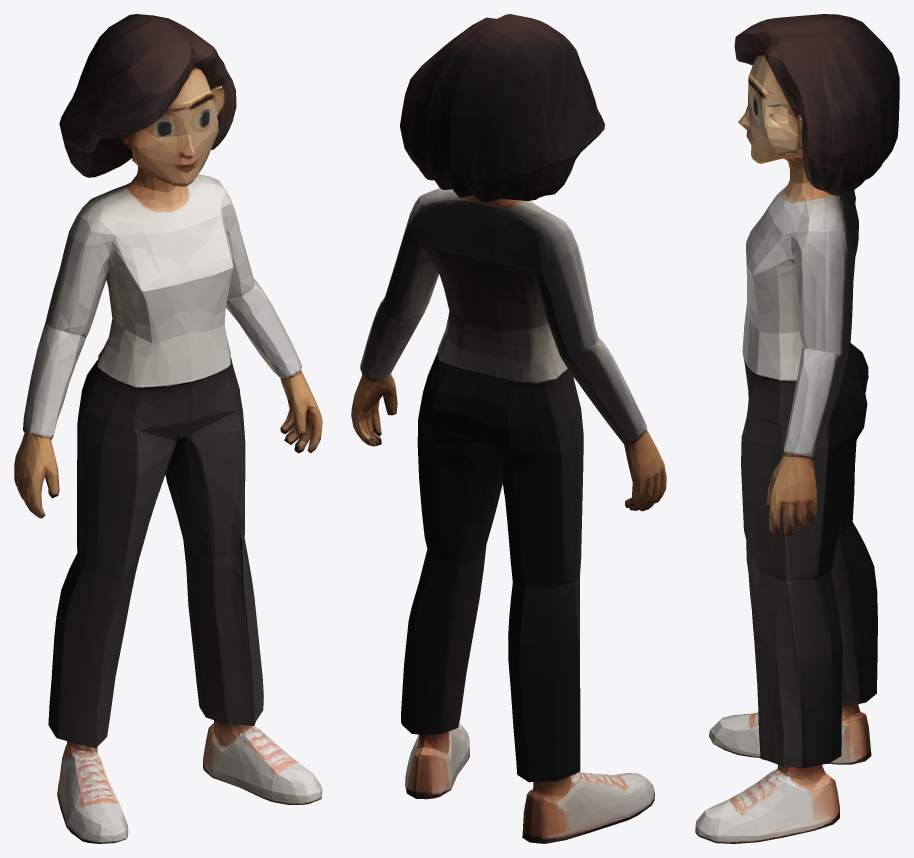
Rendered from trellis-feminine-v1.glb.
The picture shows the model from 3 angles, left to right: view 1: azimuth 30°, elevation 25°; view 2: azimuth 150°, elevation 25°; view 3: azimuth 270°, elevation 25°; orthographic projection. The views are drawn at different scales.
Parts seen in each view (by area): view 1: world; view 2: world; view 3: world.
Part boxes in pixels (left/top/right/bottom): world: left=14, top=14, right=322, bottom=843; world: left=351, top=14, right=666, bottom=843; world: left=695, top=14, right=899, bottom=843.
Size of the model in its own units: 0.4 by 0.9993 by 0.2409.
Materials: 1 (1 with a texture image).
